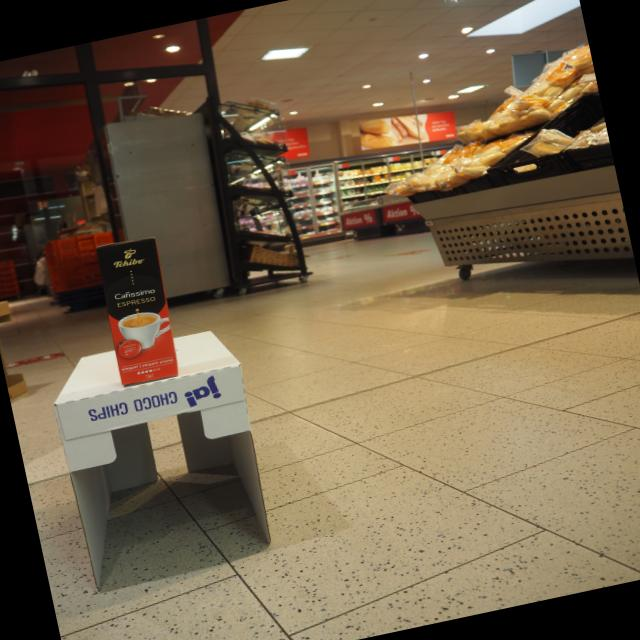Simo Es Elegant: (94, 235, 181, 388)
